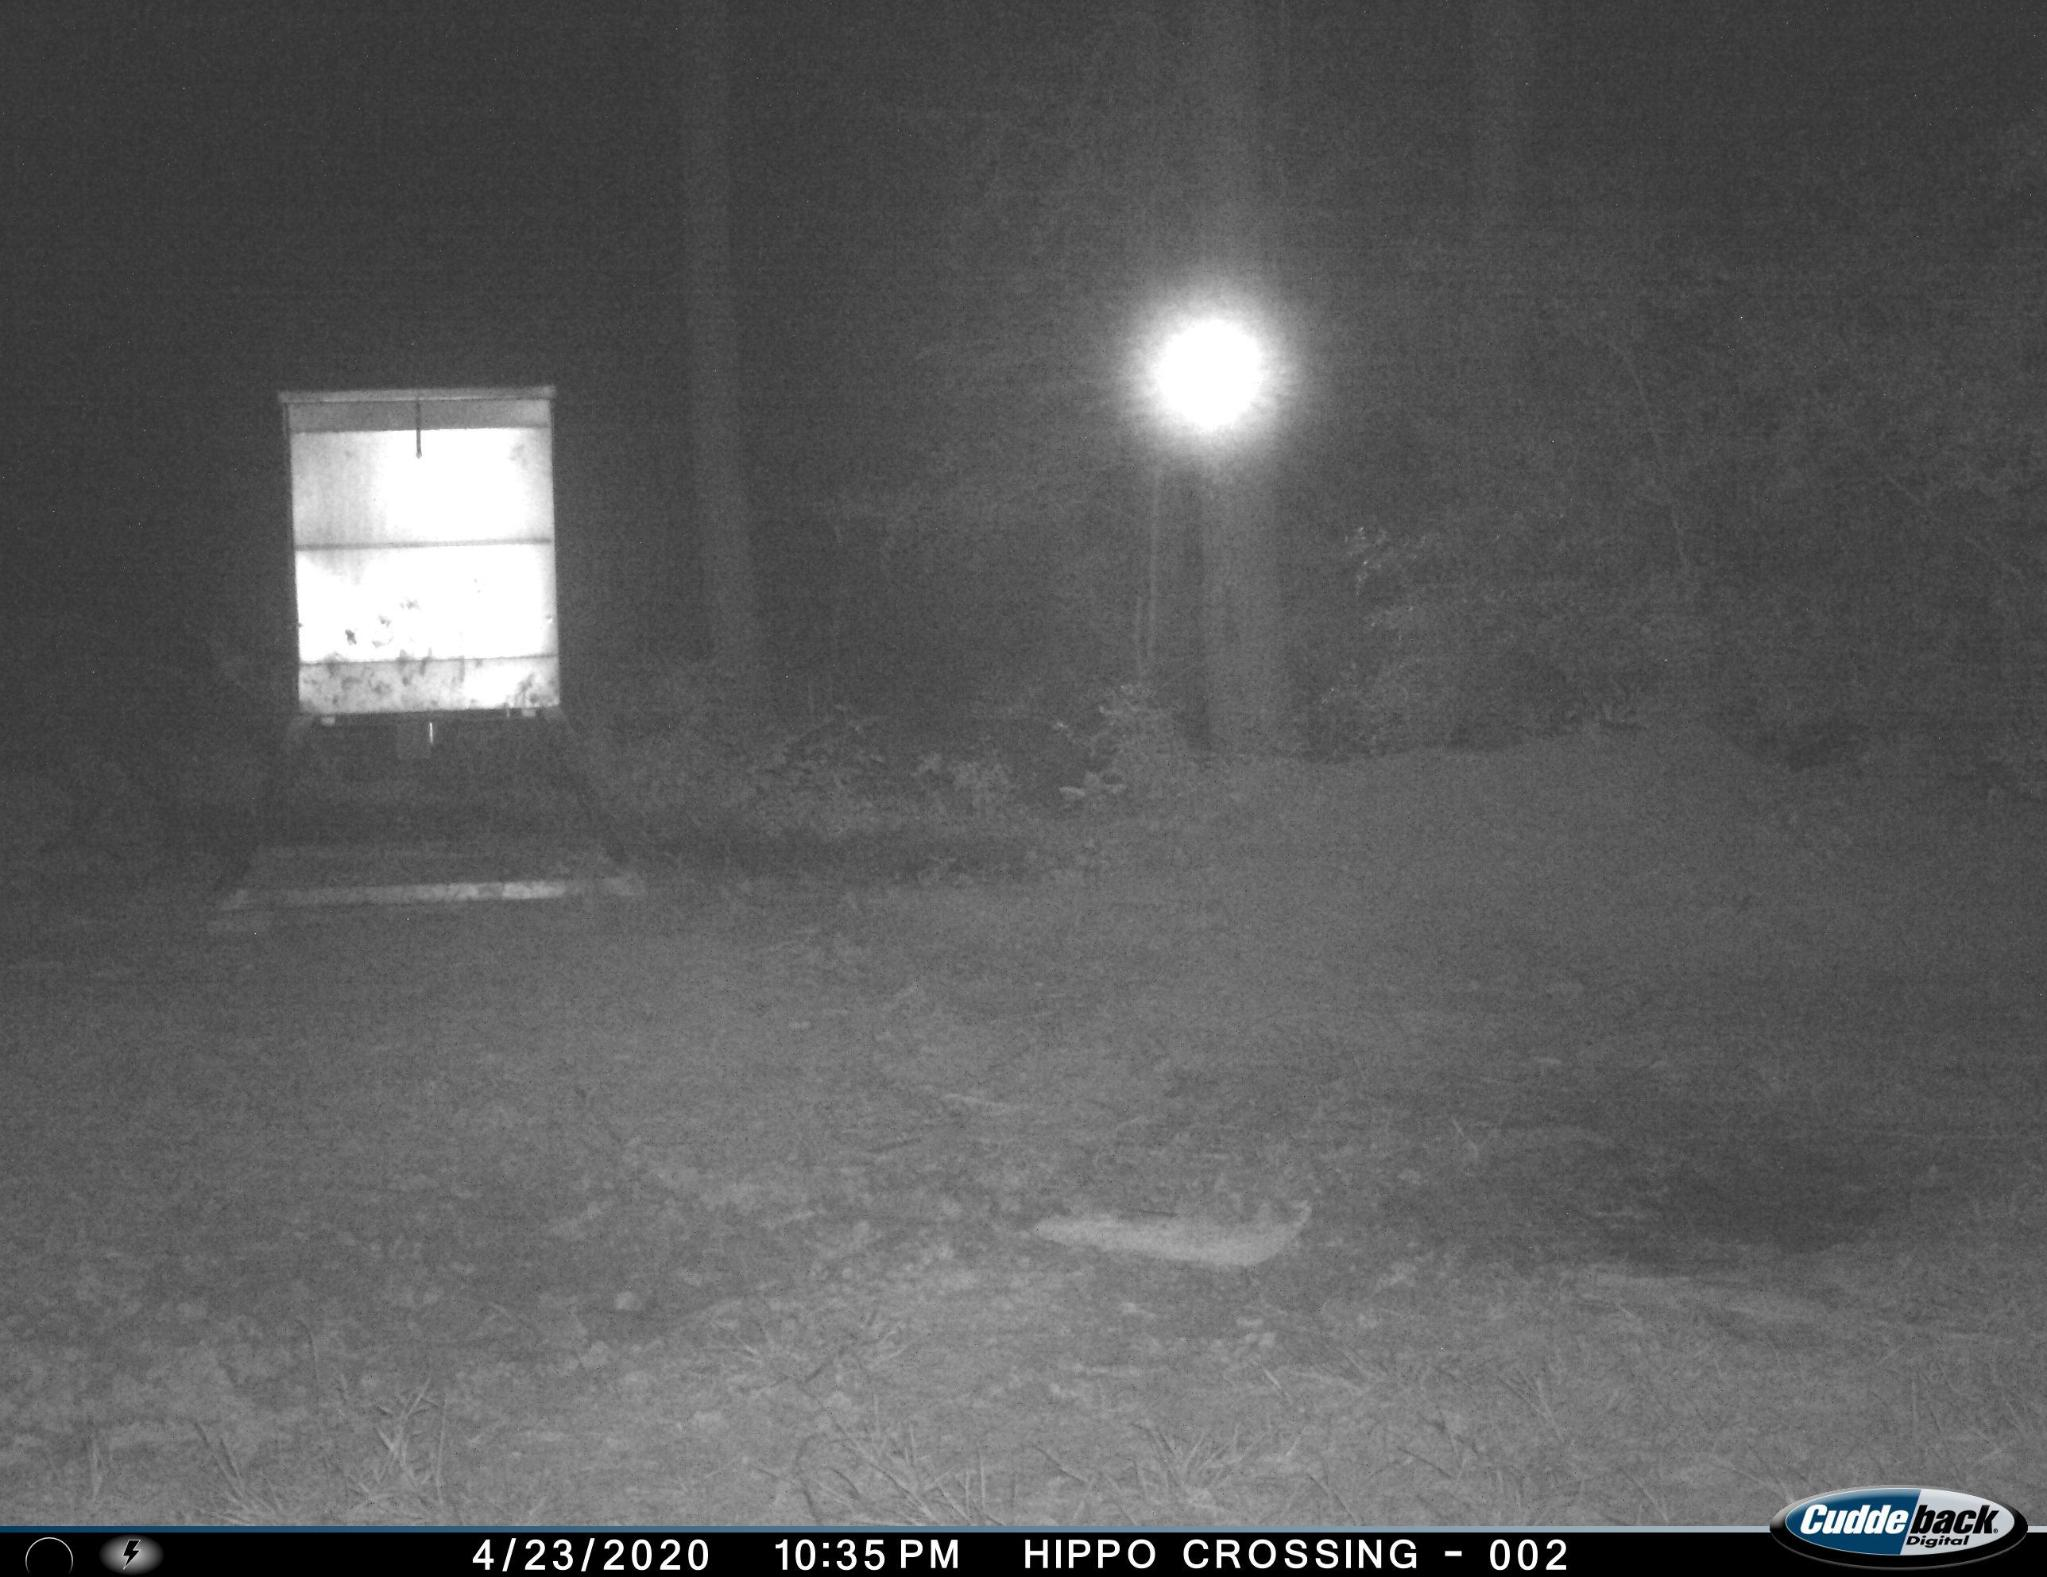Hog: (13, 586, 243, 919)
